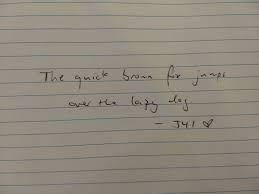text: (39, 63, 227, 91), (66, 93, 190, 115), (152, 117, 215, 130)
